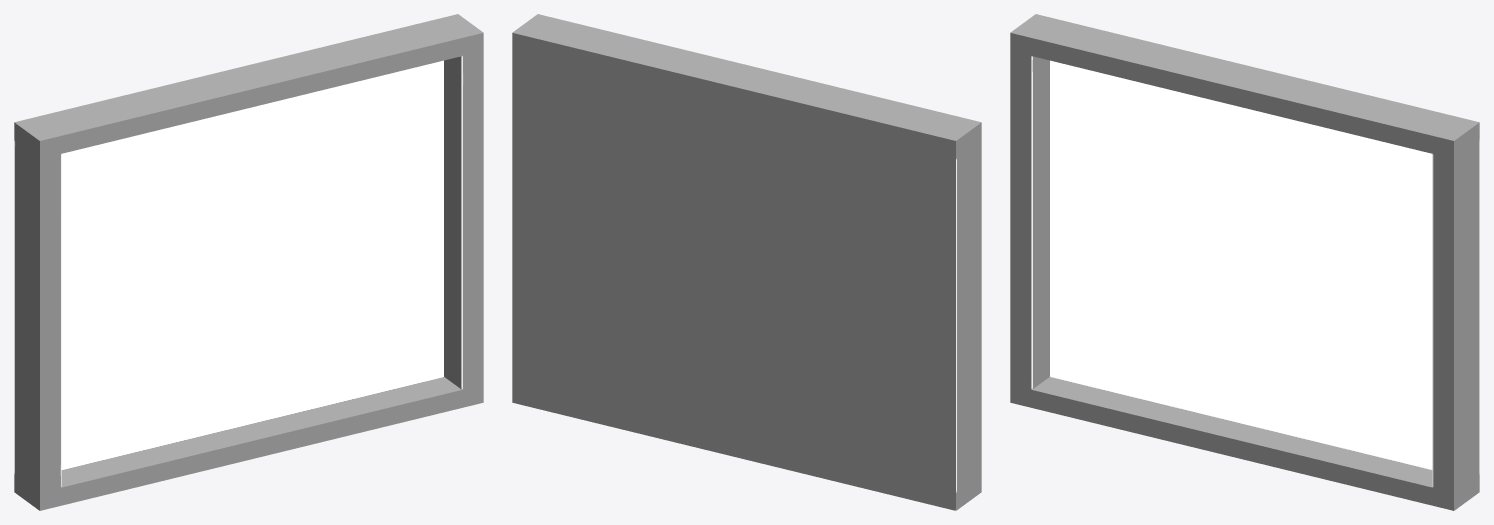
The model's file is window.glb.
The picture shows the model from 3 angles, left to right: view 1: azimuth 30°, elevation 25°; view 2: azimuth 150°, elevation 25°; view 3: azimuth 330°, elevation 25°; orthographic projection.
Parts seen in each view (by area): view 1: Cube.009; view 2: Cube.009; view 3: Cube.009.
Part boxes in pixels (left/top/right/bottom): Cube.009: left=14, top=14, right=483, bottom=510; Cube.009: left=512, top=14, right=981, bottom=510; Cube.009: left=1010, top=14, right=1479, bottom=510.
Size of the model in its own units: 1 by 0.7963 by 0.1.
Materials: 1 (1 with a texture image).
